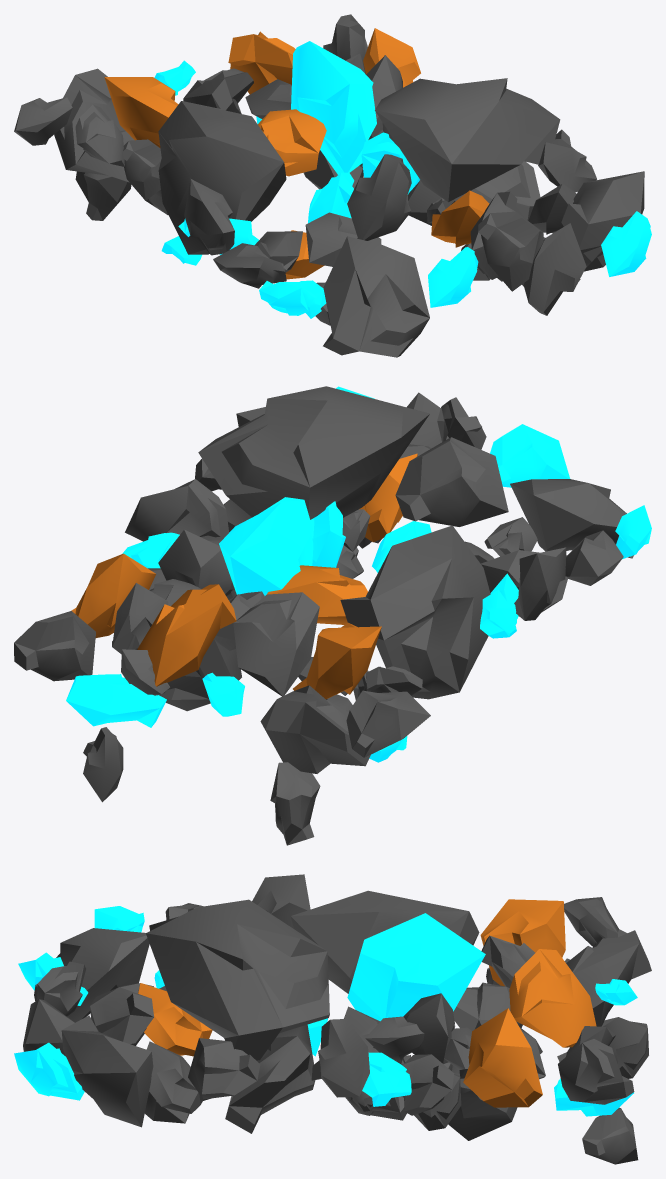
The model's file is p_mesh_orecrusher_stonedebri_vacumed_blendshape.fbx.
3 views of the same model, one above another, from view 1: azimuth 30°, elevation 25°; view 2: azimuth 150°, elevation 25°; view 3: azimuth 270°, elevation 25° (orthographic). The views are drawn at different scales.
Parts seen in each view (by area): view 1: rocks; view 2: rocks; view 3: rocks.
Boxes of the visible parts, bbox=[...] form: rocks: bbox=[14, 14, 651, 357]; rocks: bbox=[14, 386, 651, 845]; rocks: bbox=[14, 874, 651, 1164].
Size of the model in its own units: 3.39 by 1.89 by 4.65.
